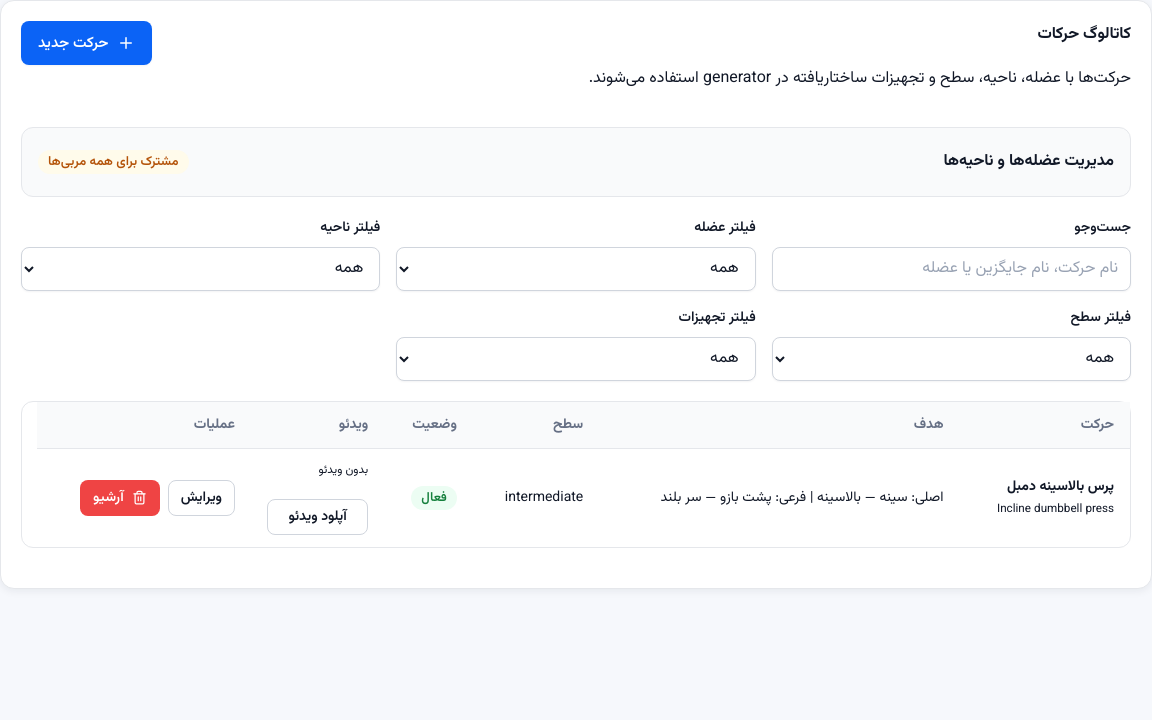
StructuredCatalogSection › opens the exercise editor with structured levels and existing values
Expected: the text "پرس بالاسینه دمبل" is shown, [1007,476,1114,498]
Click the button "ویرایش" at (201, 498), box [168,480,235,516]
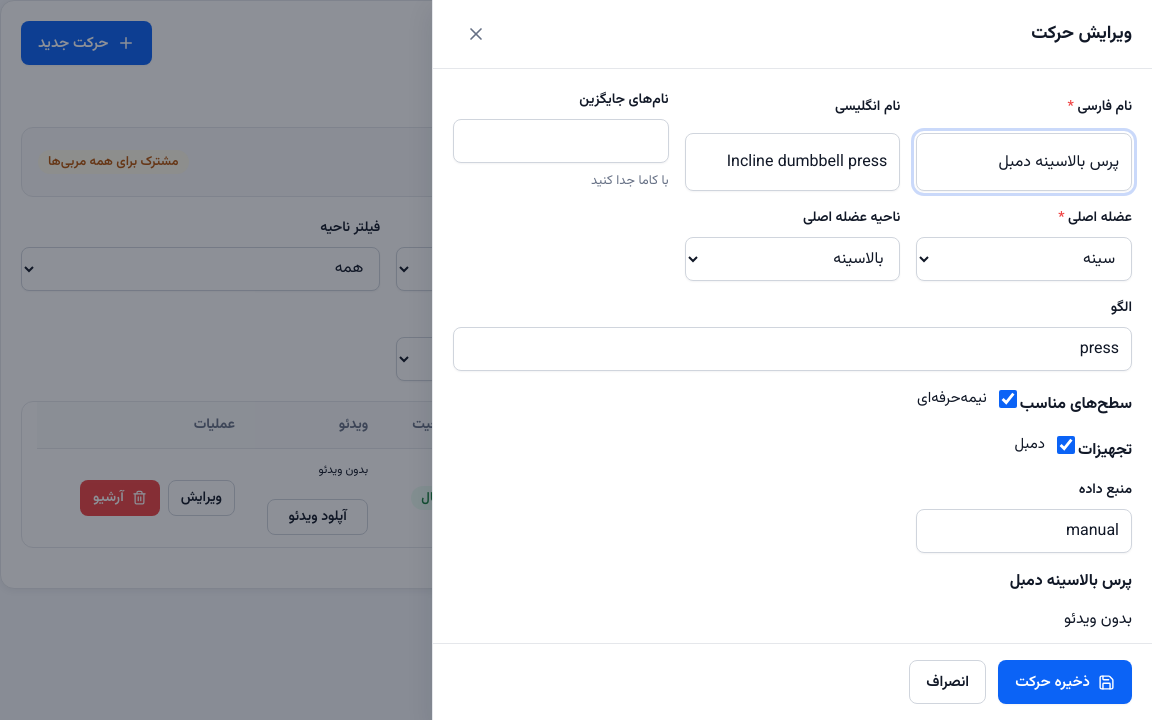
Expected: the heading "ویرایش حرکت" is shown, [1031,20,1132,48]
Expected: the field showing "پرس بالاسینه دمبل" below "نام فارسی" is shown, [916,133,1132,191]
